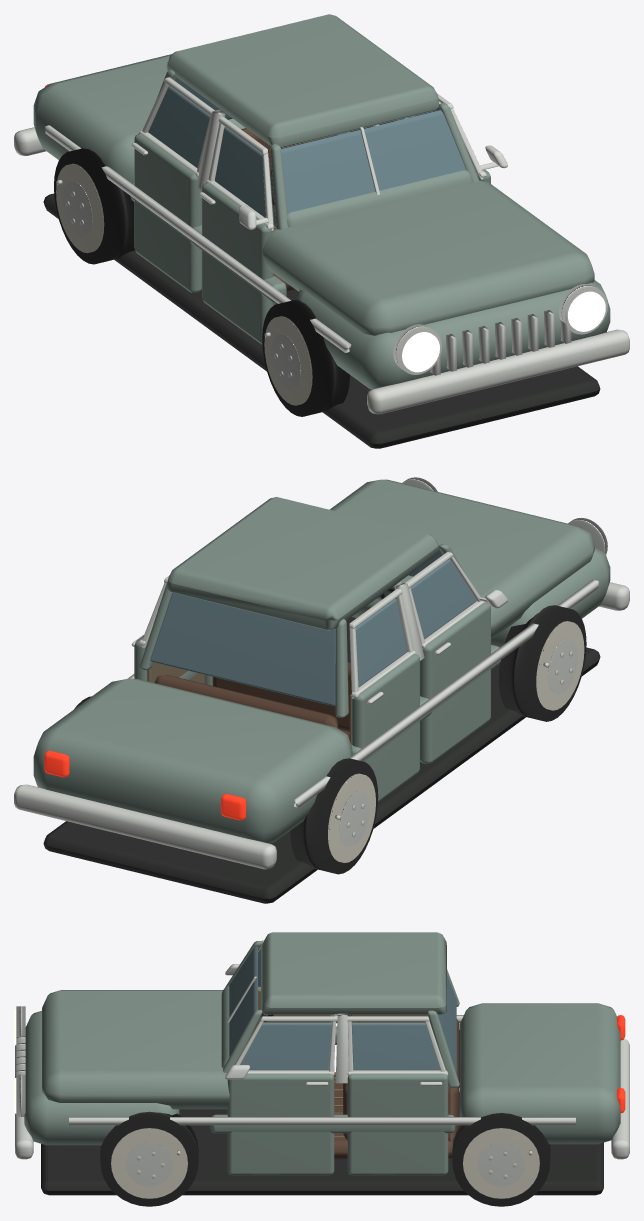
The model's file is ford.glb.
3 renders of one model, top to bottom at view 1: azimuth 30°, elevation 25°; view 2: azimuth 150°, elevation 25°; view 3: azimuth 270°, elevation 25°, orthographic. The views are drawn at different scales.
Parts seen in each view (by area): view 1: front body, windscreen divider, floor pan, split windscreen, door skin.001, door skin, wheel.001, wheel, door window, door window.001, headlight, whitewall (+5 smaller); view 2: front body, floor pan, split windscreen, windscreen divider, door skin, door skin.001, wheel, wheel.001, bench cushion, door window, door window.001, whitewall (+6 smaller); view 3: front body, floor pan, door skin.002, door skin.003, windscreen divider, door window.003, door window.002, wheel.002, wheel.003, split windscreen, whitewall.002, whitewall.003 (+6 smaller).
Part boxes in pixels (<box>): front body: <box>33,14,610,389</box>; windscreen divider: <box>14,109,629,414</box>; floor pan: <box>43,170,600,448</box>; split windscreen: <box>175,78,465,213</box>; door skin.001: <box>134,134,201,292</box>; door skin: <box>202,183,273,344</box>; wheel.001: <box>54,148,134,264</box>; wheel: <box>262,299,349,416</box>; door window: <box>215,127,273,220</box>; door window.001: <box>148,86,210,168</box>; headlight: <box>402,291,605,372</box>; whitewall: <box>264,316,312,405</box>; front body: <box>33,479,610,843</box>; floor pan: <box>43,587,600,903</box>; split windscreen: <box>150,550,442,706</box>; windscreen divider: <box>14,477,629,869</box>; door skin: <box>420,602,490,763</box>; door skin.001: <box>352,654,419,802</box>; wheel: <box>498,605,586,721</box>; wheel.001: <box>290,758,378,874</box>; bench cushion: <box>155,662,351,739</box>; door window: <box>410,559,476,638</box>; door window.001: <box>349,598,406,686</box>; whitewall: <box>536,621,584,710</box>; front body: <box>24,932,620,1145</box>; floor pan: <box>41,1013,603,1195</box>; door skin.002: <box>227,1073,334,1175</box>; door skin.003: <box>347,1073,448,1175</box>; windscreen divider: <box>15,964,629,1159</box>; door window.003: <box>351,1022,440,1070</box>; door window.002: <box>240,1022,331,1070</box>; wheel.002: <box>100,1111,198,1206</box>; wheel.003: <box>452,1113,550,1206</box>; split windscreen: <box>229,946,456,1072</box>; whitewall.002: <box>111,1128,187,1198</box>; whitewall.003: <box>463,1128,539,1198</box>.
Size of the model in its own units: 2.08 by 1.57 by 4.65.
